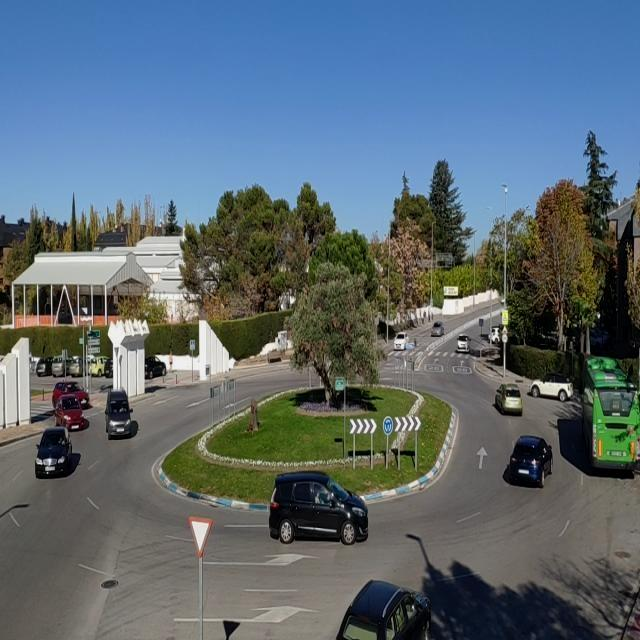Bus: (579, 355, 640, 474)
Car: (268, 473, 368, 545), (337, 579, 432, 640), (506, 436, 553, 486), (35, 428, 74, 478), (104, 389, 135, 439), (529, 372, 573, 401), (53, 394, 88, 430), (52, 382, 92, 408), (495, 383, 523, 415), (50, 355, 77, 377), (144, 356, 167, 379), (88, 356, 110, 377), (68, 356, 87, 377), (36, 357, 54, 377), (393, 332, 408, 350), (590, 330, 605, 348), (489, 326, 503, 345), (456, 335, 470, 353), (431, 322, 444, 337), (105, 358, 114, 378)
